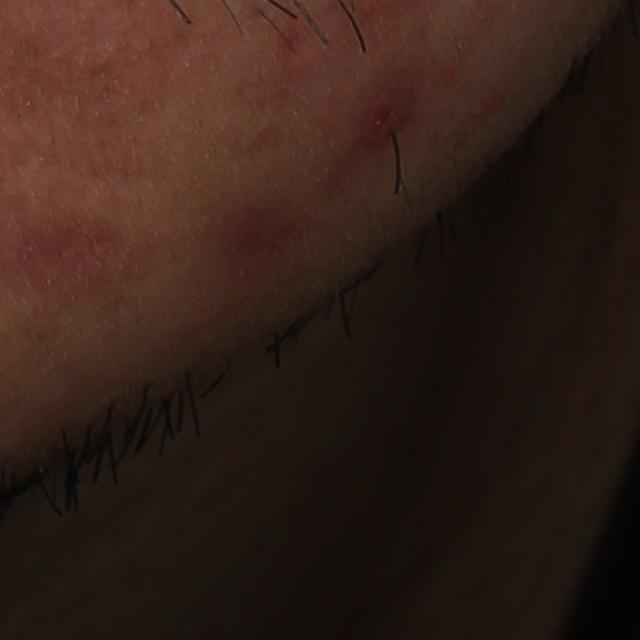papule: (358, 100, 410, 148)
